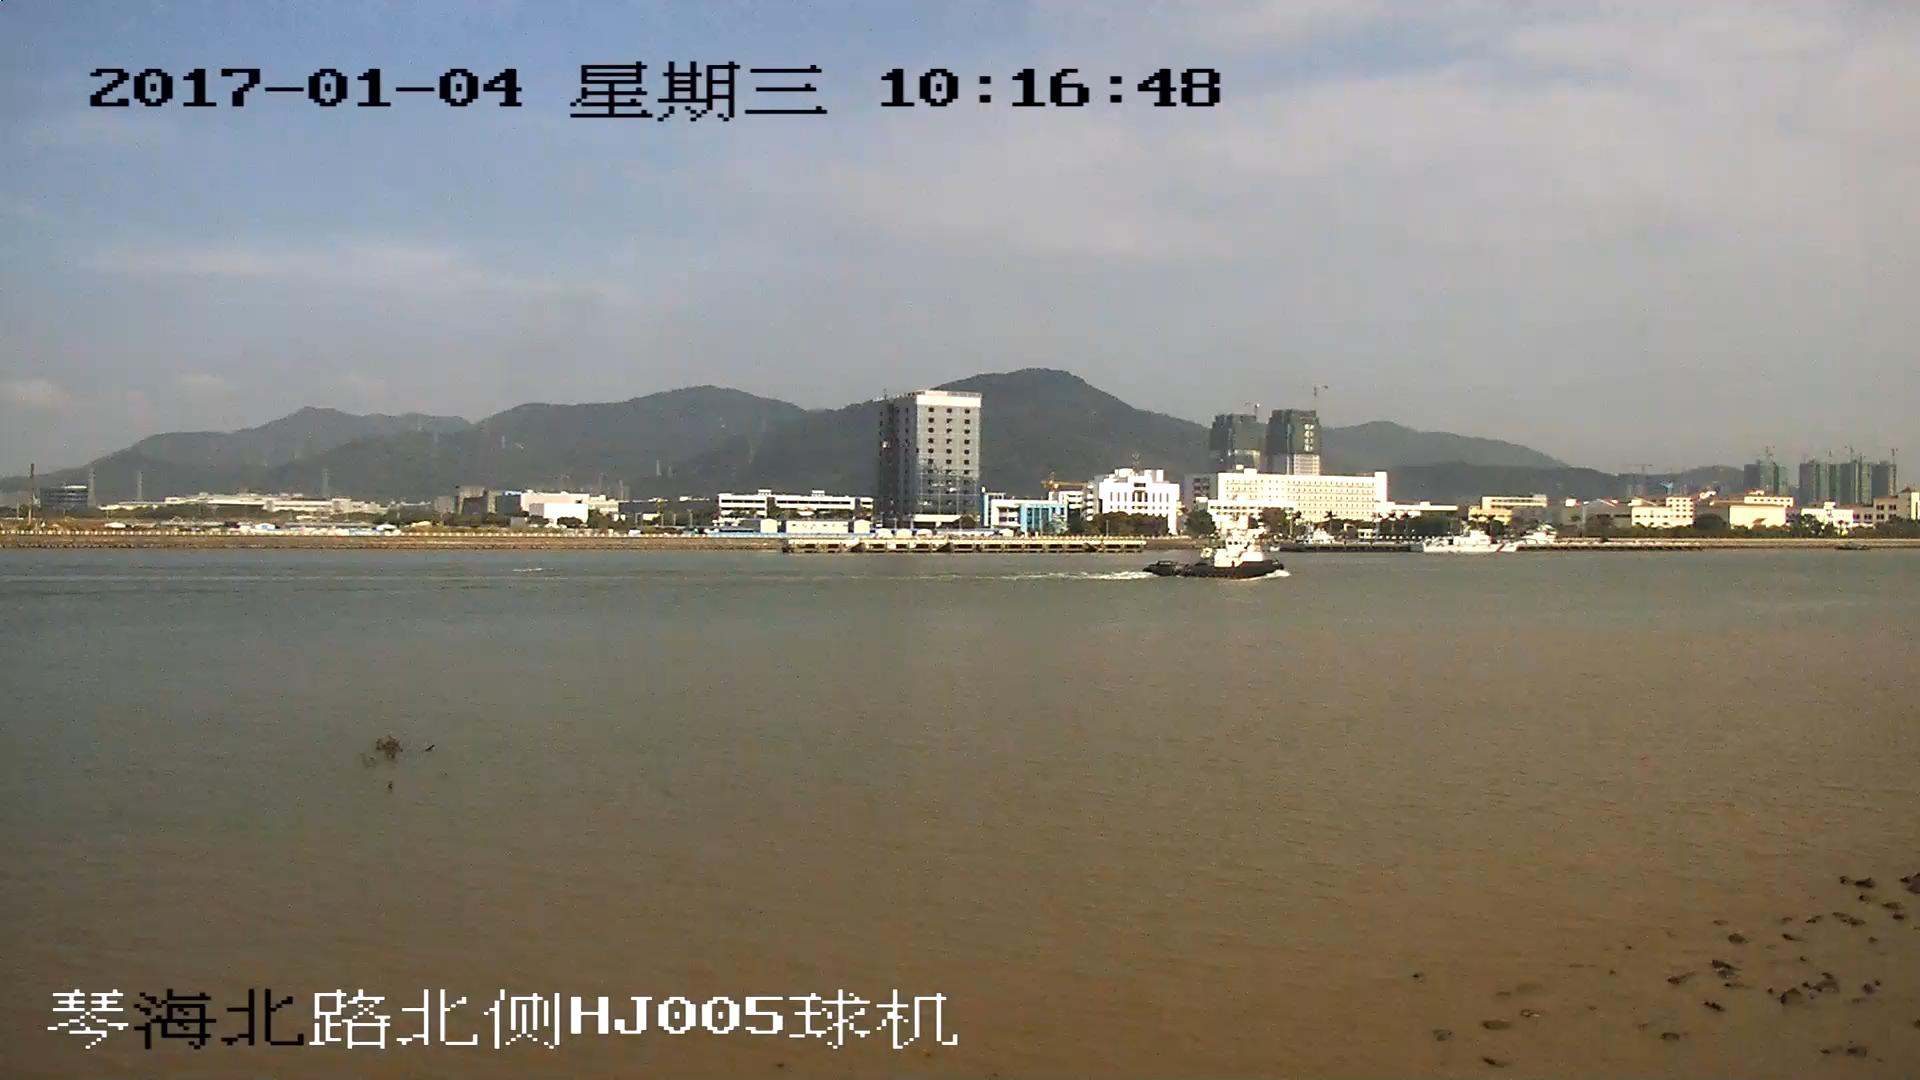fishing boat: (1143, 533, 1284, 575)
